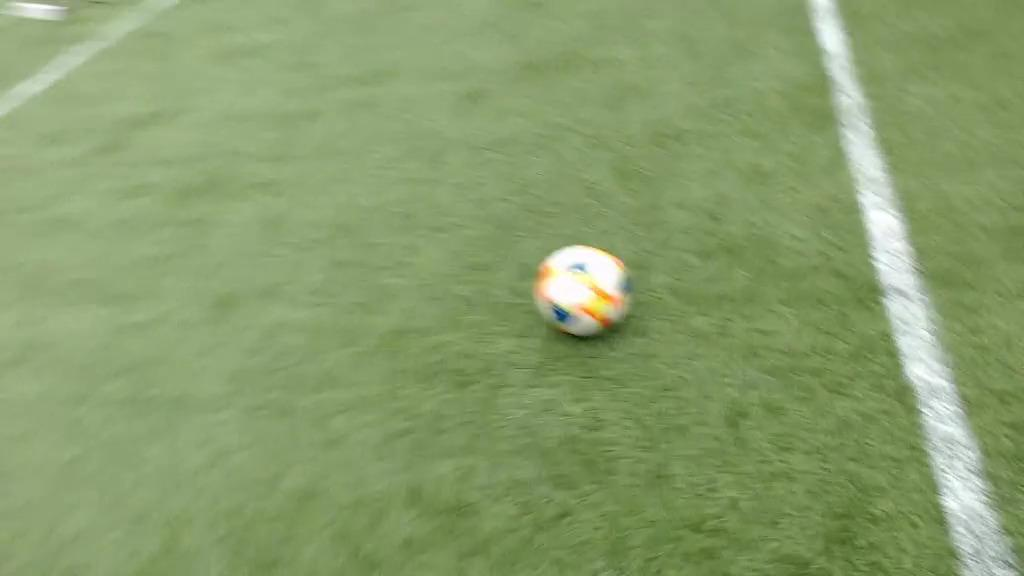ball: (537, 243, 631, 338)
